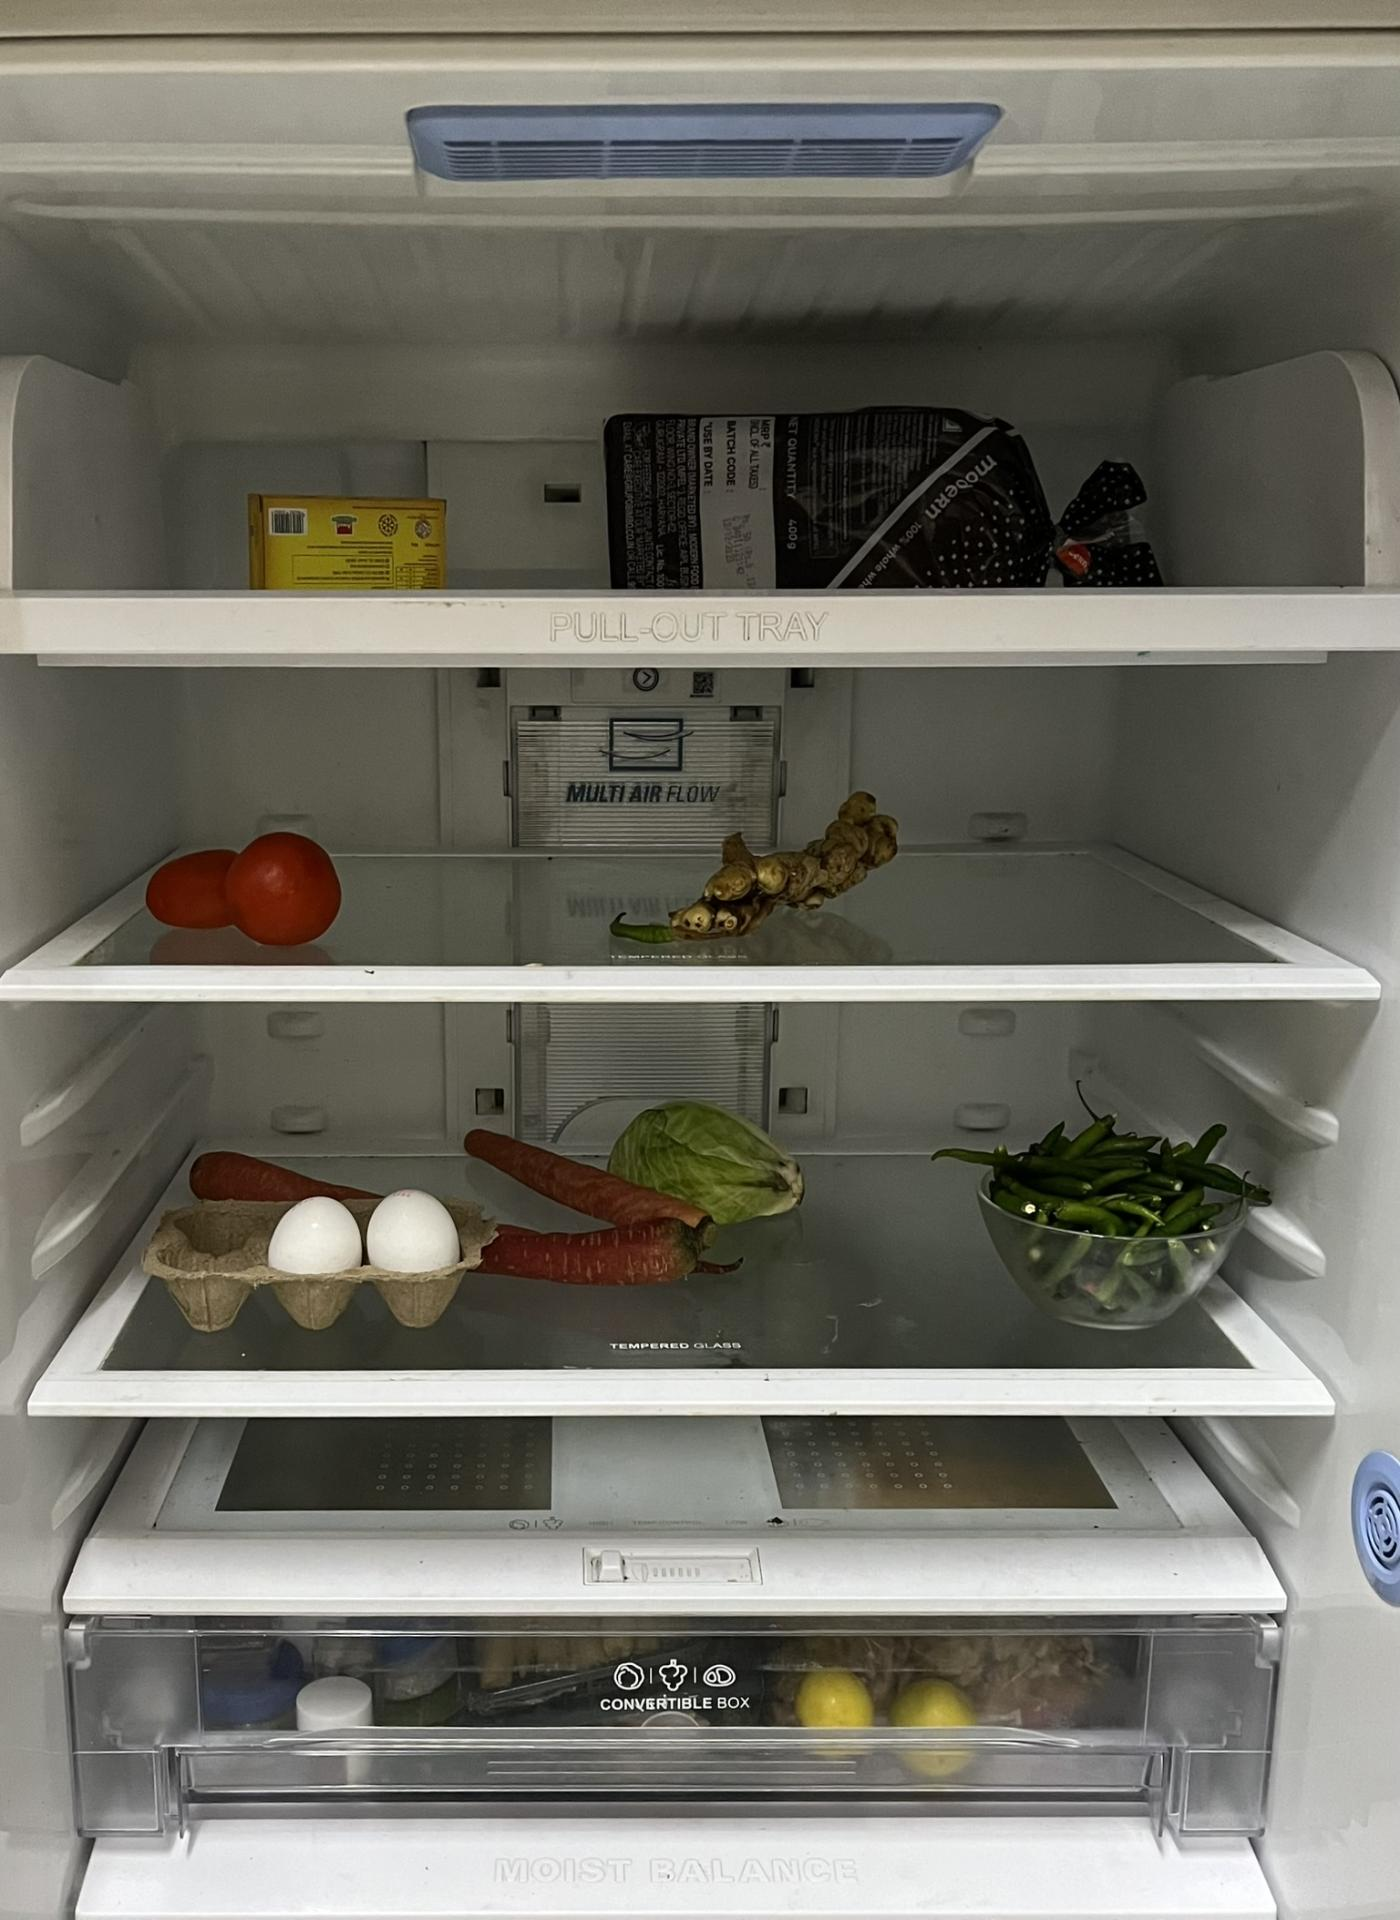bread: (596, 413, 1160, 595)
butter: (247, 493, 458, 593)
cabbage: (610, 1097, 814, 1209)
carrots: (197, 1100, 753, 1292)
chillies: (981, 1125, 1258, 1333)
egg: (245, 1187, 480, 1334)
ginger: (626, 817, 904, 942)
tomato: (148, 827, 347, 944)
